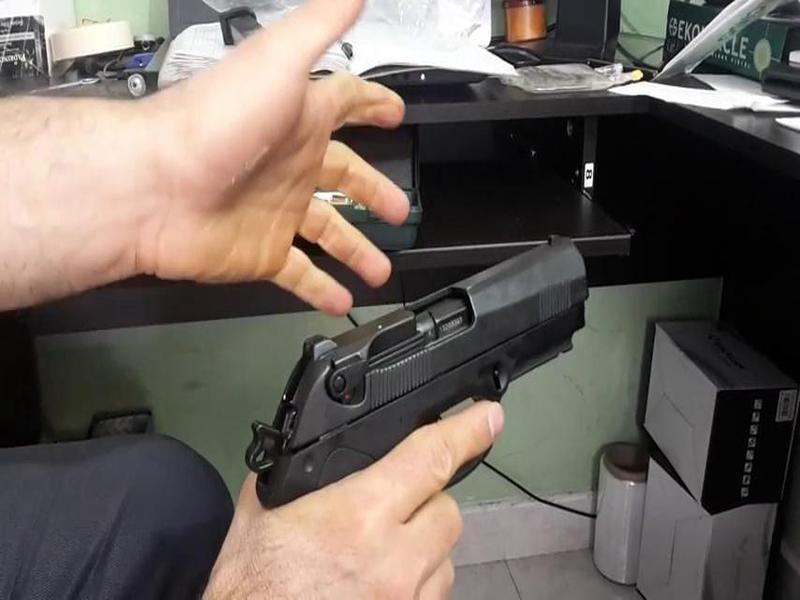Pistola: (243, 221, 605, 497)
